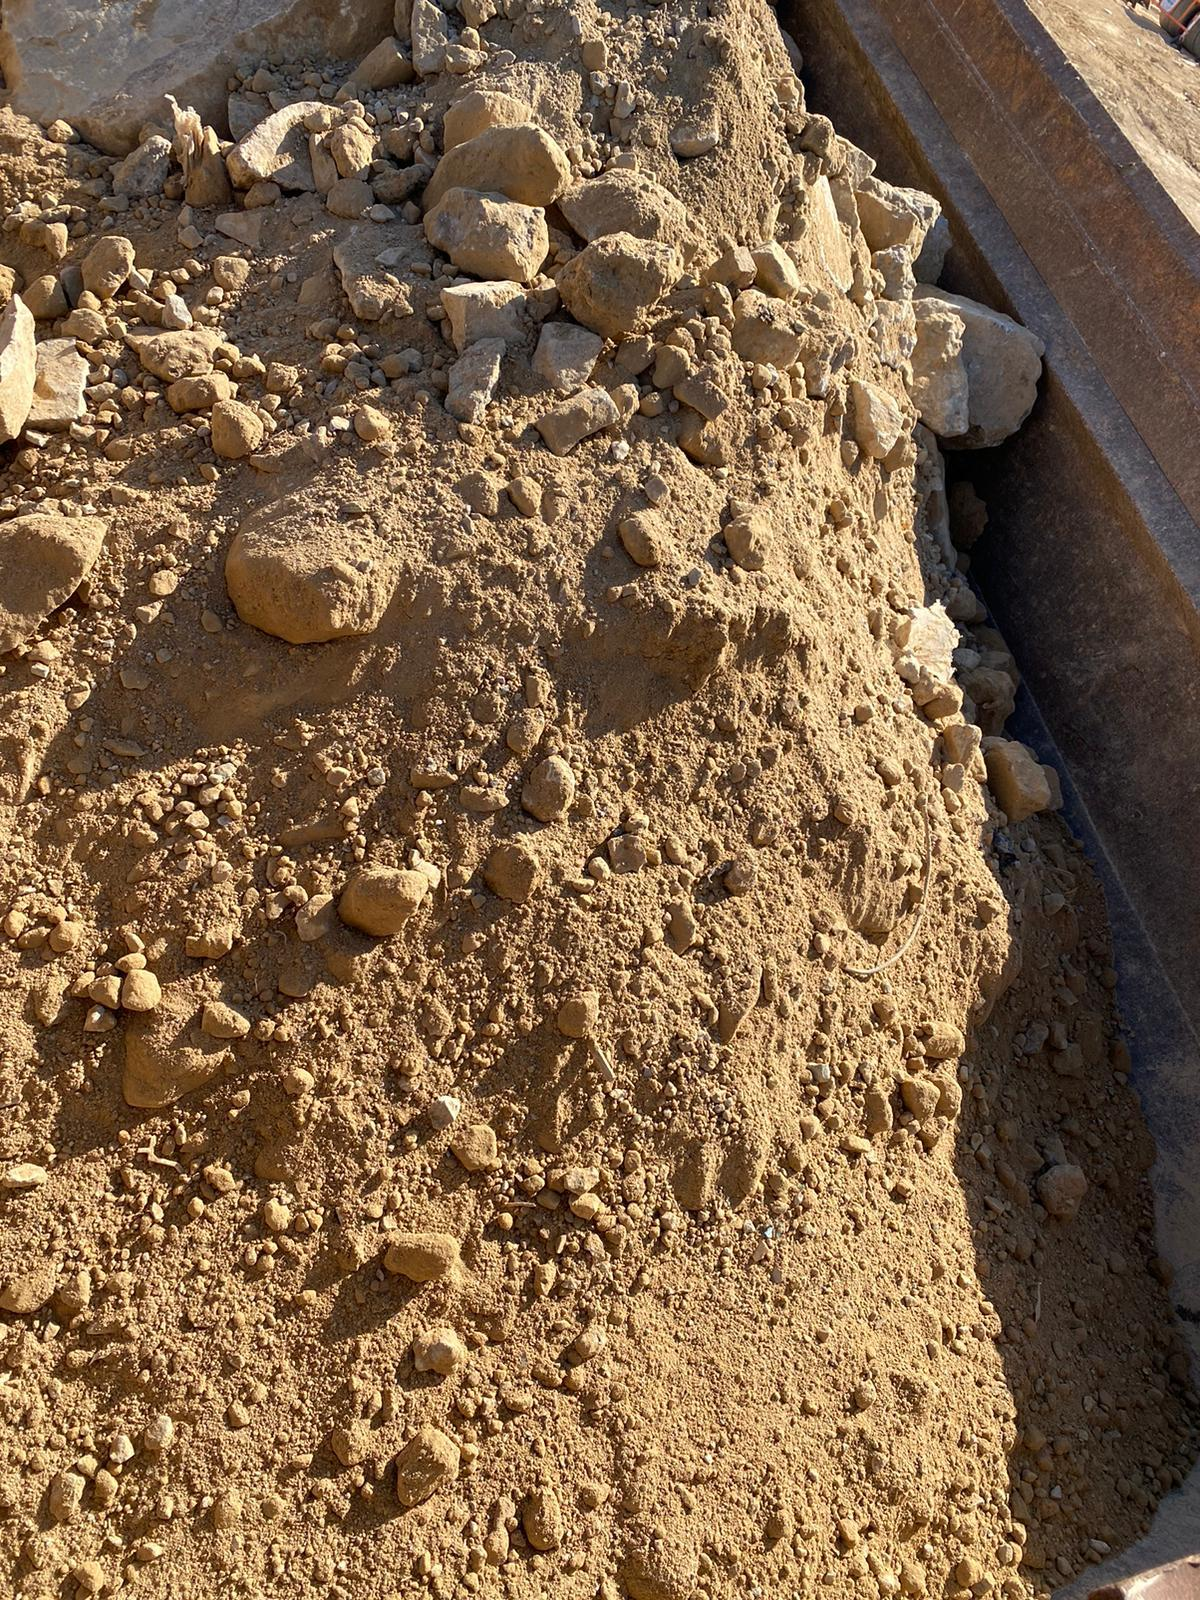dry: (0, 0, 1200, 1590)
